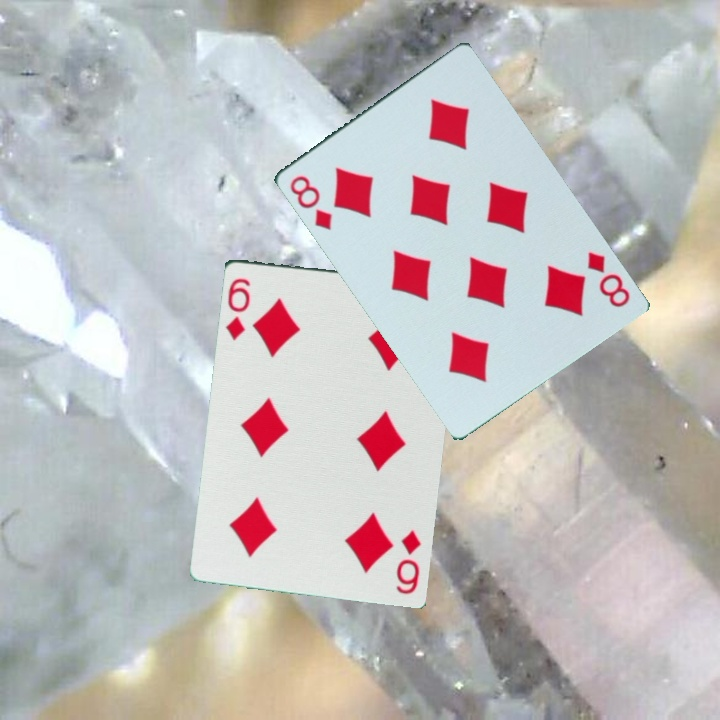6d: (392, 526, 424, 597), (221, 274, 253, 342)
8d: (581, 248, 633, 311), (285, 171, 335, 233)
